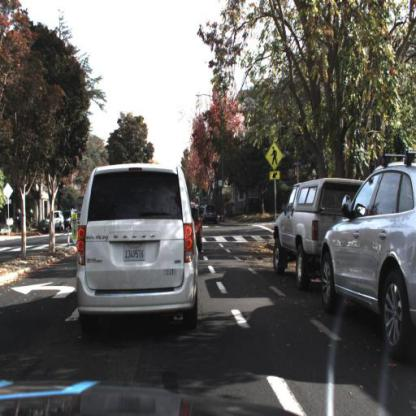car: (317, 140, 416, 362), (75, 164, 200, 338), (275, 174, 376, 290), (187, 198, 209, 253), (242, 196, 266, 222), (44, 211, 67, 236), (62, 210, 80, 235), (202, 204, 221, 227), (203, 204, 219, 227)
pedestrian: (15, 207, 25, 236)
